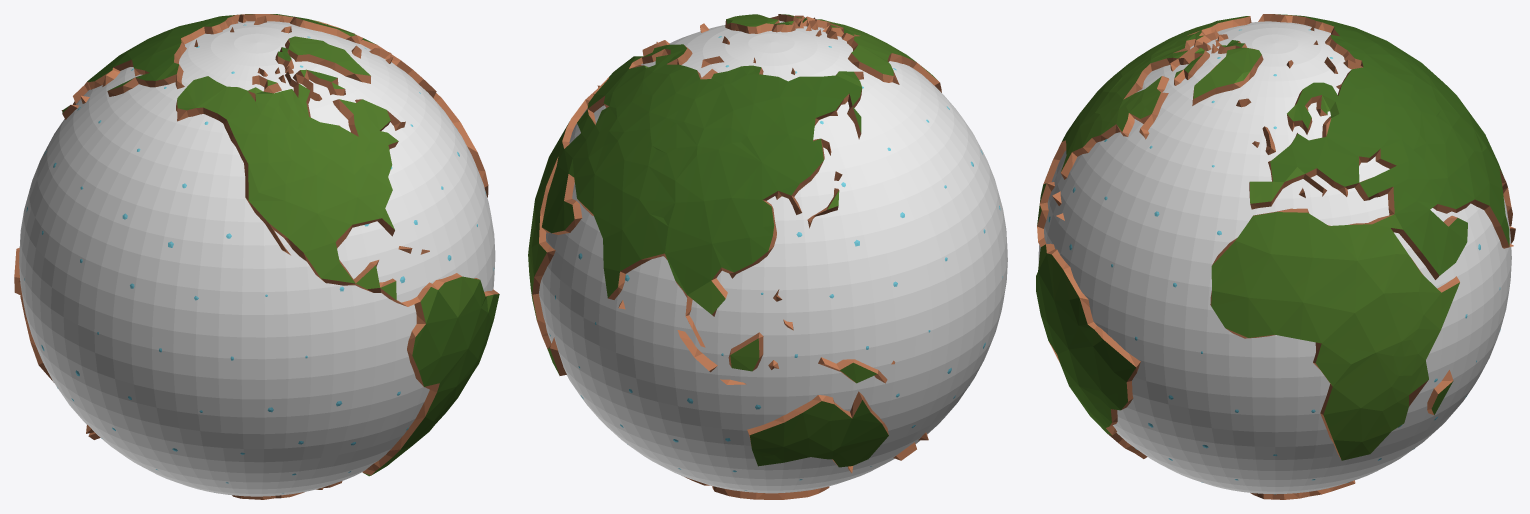
File: LowPolyEarth.glb
3 views of the same model, side by side, from view 1: azimuth 30°, elevation 25°; view 2: azimuth 150°, elevation 25°; view 3: azimuth 270°, elevation 25° (orthographic).
Parts seen in each view (by area): view 1: LowPolyEarth, LowPolyEarth.001, Ocean; view 2: LowPolyEarth, LowPolyEarth.001, Ocean; view 3: LowPolyEarth, LowPolyEarth.001.
Part boxes in pixels (box(x1,y1,x2,y2)): LowPolyEarth: box(19, 21, 495, 496); LowPolyEarth.001: box(14, 14, 499, 499); Ocean: box(24, 24, 494, 493); LowPolyEarth: box(539, 20, 1007, 493); LowPolyEarth.001: box(528, 14, 941, 499); Ocean: box(549, 36, 1002, 490); LowPolyEarth: box(1038, 21, 1511, 493); LowPolyEarth.001: box(1036, 14, 1515, 499).
Size of the model in its own units: 2.02 by 2.05 by 2.03.
1 material, 1 textured.
